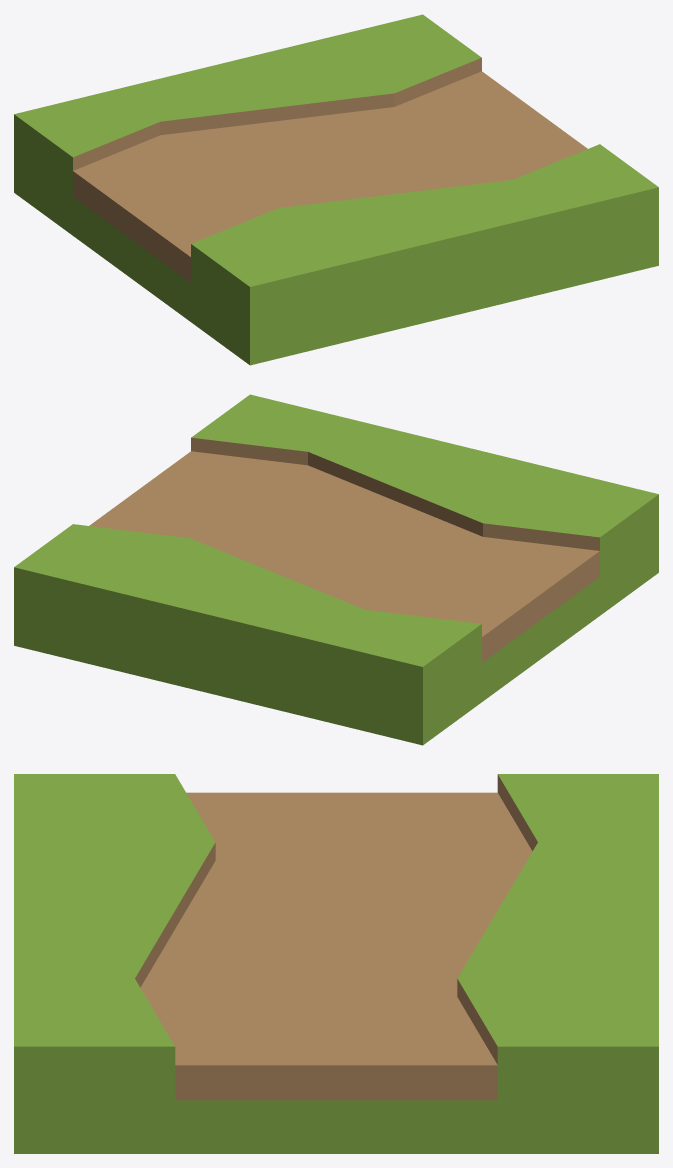
Rendered from tile214.dae.
The picture shows the model from 3 angles, top to bottom: view 1: azimuth 30°, elevation 25°; view 2: azimuth 150°, elevation 25°; view 3: azimuth 270°, elevation 25°; orthographic projection. The views are drawn at different scales.
Visible parts, largest first — view 1: tile214; view 2: tile214; view 3: tile214.
Boxes of the visible parts, x1,y1,x2,y2 form: tile214: (14,14,658,365); tile214: (14,394,658,745); tile214: (14,774,658,1153).
Bounding box in the file's own units: 1 × 0.1833 × 1.
